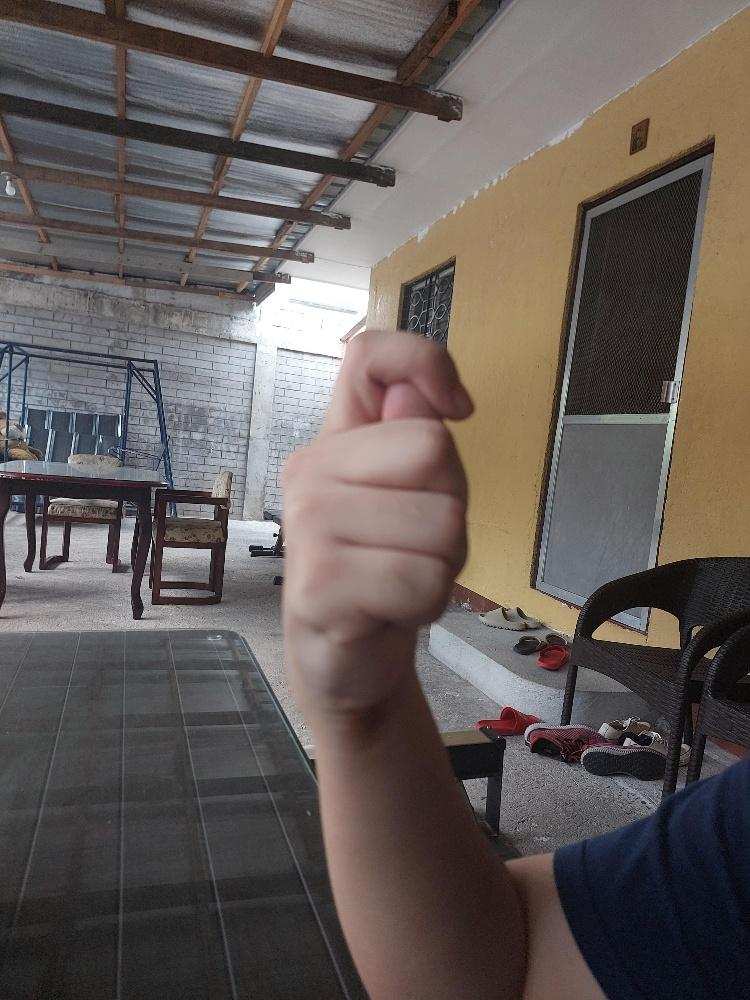t: (275, 322, 479, 716)
